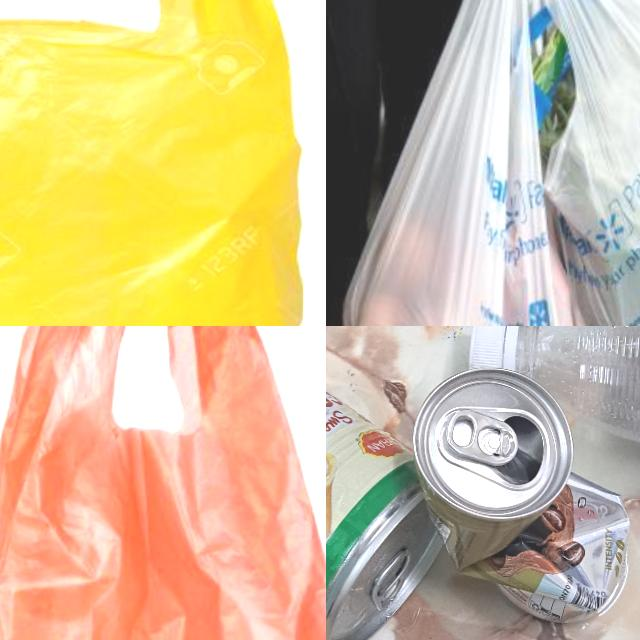aba de lata: (447, 408, 518, 464), (373, 548, 411, 610)
garrafa plástica: (514, 326, 640, 453)
lata: (408, 367, 632, 622), (326, 326, 450, 640)
sacola plástica: (0, 0, 326, 326), (0, 326, 326, 640), (333, 0, 595, 326), (500, 0, 640, 326)
tampa plástica: (468, 326, 516, 372)
